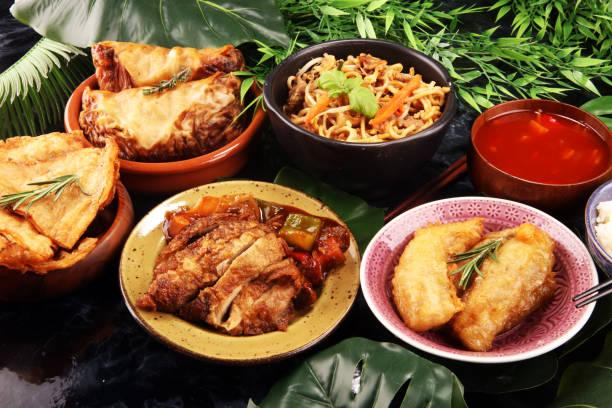Braised Crucian Carp: (117, 177, 354, 363), (358, 195, 596, 365), (263, 38, 454, 194), (65, 38, 261, 172)
